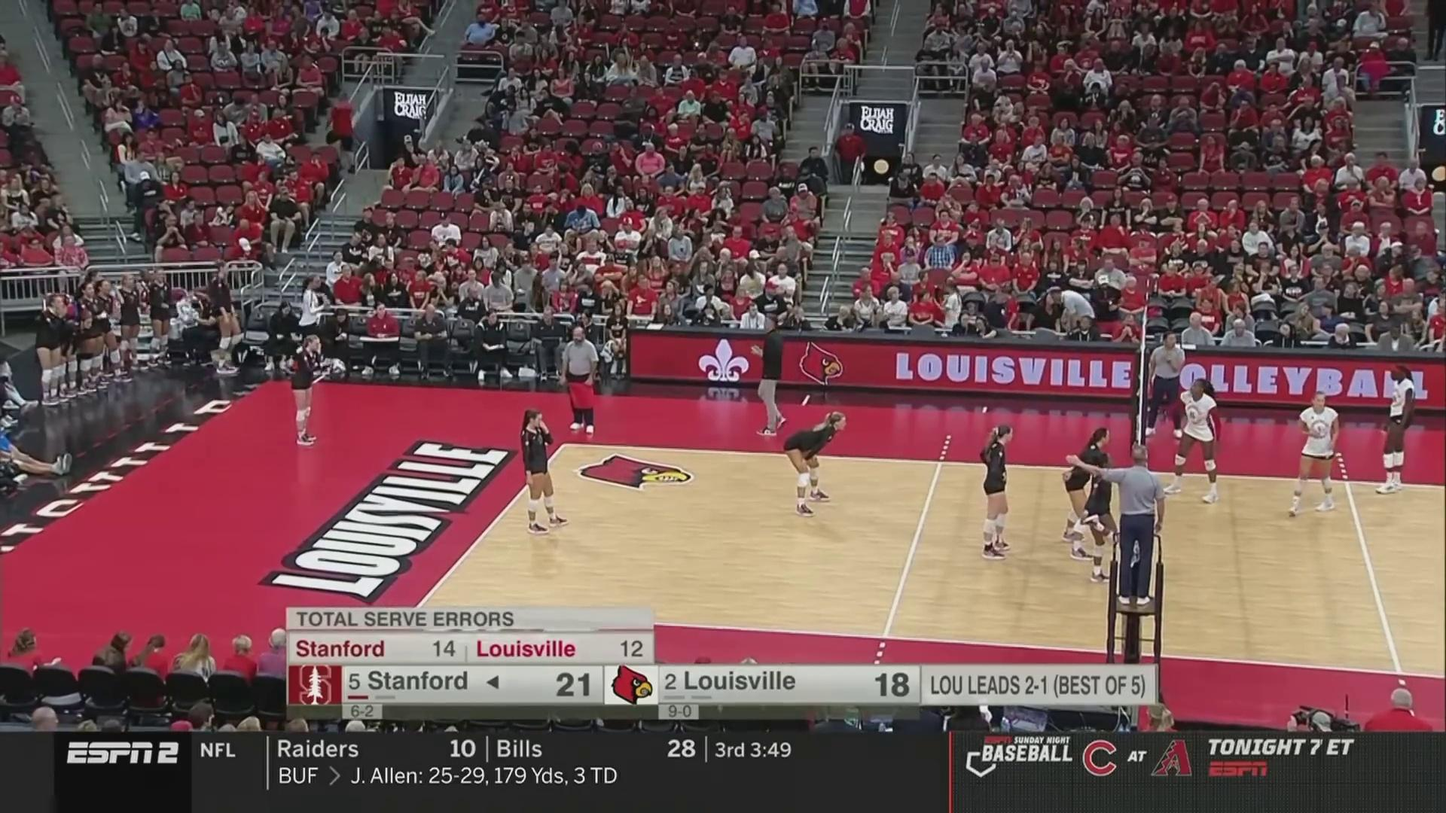player: (1164, 383, 1237, 503), (1288, 396, 1358, 517), (1069, 444, 1126, 590), (1055, 426, 1119, 550), (514, 408, 567, 534), (781, 412, 846, 514), (972, 424, 1019, 561), (1375, 376, 1429, 493), (289, 334, 326, 446)
refree: (1092, 434, 1171, 608), (558, 319, 601, 438), (1143, 327, 1185, 443)
